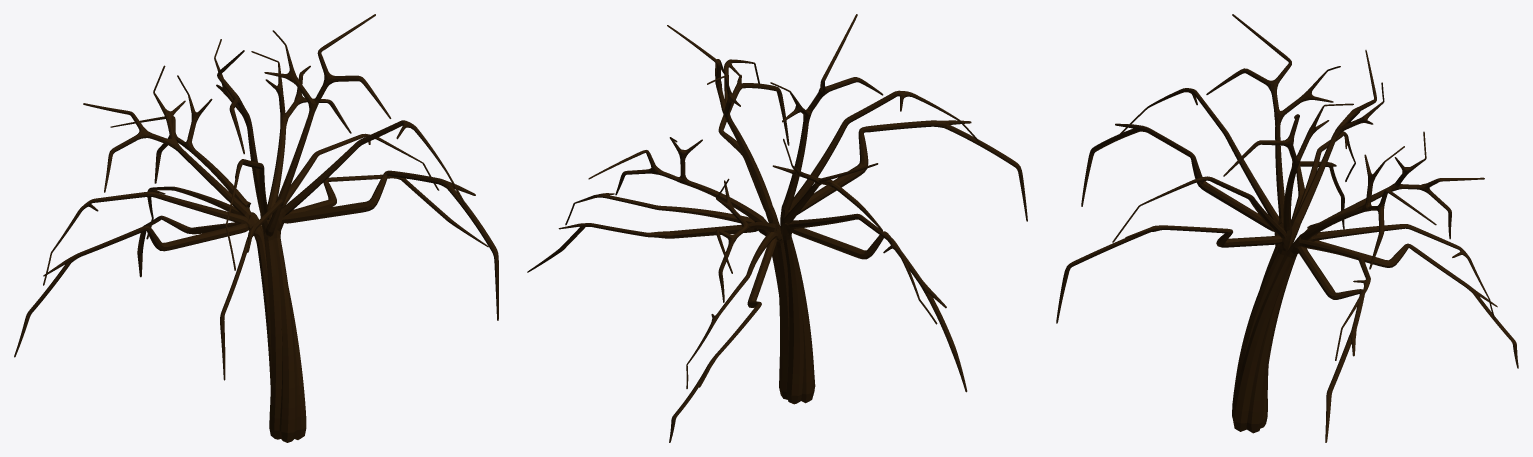
Rendered from Tree2.fbx.
3 renders of one model, left to right at view 1: azimuth 30°, elevation 25°; view 2: azimuth 150°, elevation 25°; view 3: azimuth 270°, elevation 25°, orthographic. The views are drawn at different scales.
Parts seen in each view (by area): view 1: Cube; view 2: Cube; view 3: Cube.
Part boxes in pixels (x1,y1,x2,y2): Cube: (14, 14, 498, 442); Cube: (527, 14, 1027, 442); Cube: (1056, 14, 1518, 442).
Size of the model in its own units: 1127 by 942 by 1010.
